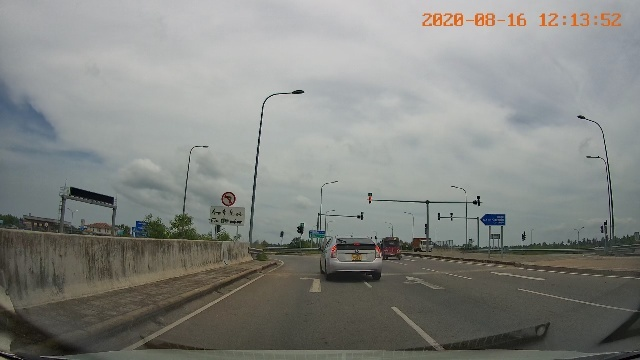LA: (300, 276, 322, 293)
SA: (487, 271, 549, 280)
SLA: (403, 275, 446, 290)
